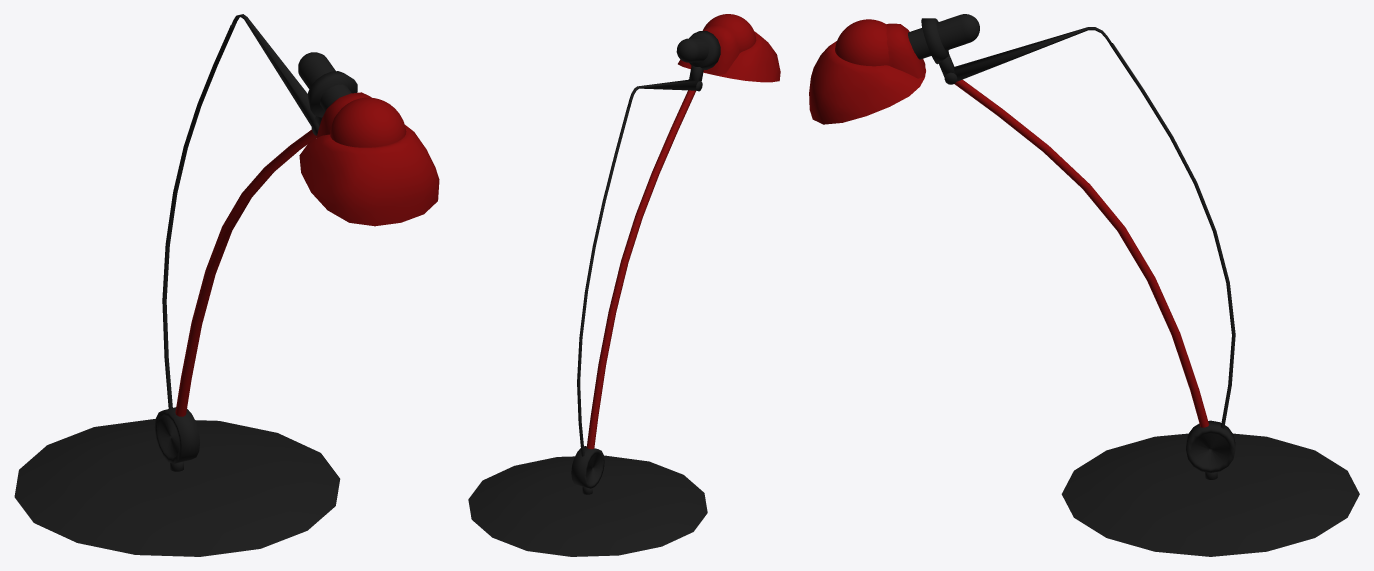
Rendered from desk_lamp2.obj.
3 renders of one model, left to right at view 1: azimuth 30°, elevation 25°; view 2: azimuth 150°, elevation 25°; view 3: azimuth 270°, elevation 25°, orthographic. The views are drawn at different scales.
Visible parts, largest first — view 1: jandrusOne_Plane.003_black, jandrusOne_Plane.003_metalillo, JandrusTwo_Sphere.001_black, JandrusTwo_Sphere.001_metalillo; view 2: jandrusOne_Plane.003_black, jandrusOne_Plane.003_metalillo, JandrusTwo_Sphere.001_black, JandrusTwo_Sphere.001_metalillo; view 3: jandrusOne_Plane.003_black, jandrusOne_Plane.003_metalillo, JandrusTwo_Sphere.001_black, JandrusTwo_Sphere.001_metalillo.
Part boxes in pixels (box(x1,y1,x2,y2)): jandrusOne_Plane.003_black: box(14, 25, 340, 556); jandrusOne_Plane.003_metalillo: box(175, 92, 439, 416); JandrusTwo_Sphere.001_black: box(154, 14, 357, 471); JandrusTwo_Sphere.001_metalillo: box(330, 97, 406, 147); jandrusOne_Plane.003_black: box(468, 107, 707, 556); jandrusOne_Plane.003_metalillo: box(586, 25, 780, 449); JandrusTwo_Sphere.001_black: box(571, 31, 720, 494); JandrusTwo_Sphere.001_metalillo: box(702, 14, 756, 52); jandrusOne_Plane.003_black: box(1061, 43, 1359, 556); jandrusOne_Plane.003_metalillo: box(809, 23, 1209, 427); JandrusTwo_Sphere.001_black: box(908, 14, 1235, 479); JandrusTwo_Sphere.001_metalillo: box(835, 19, 889, 66).
Size of the model in its own units: 2.28 by 4.06 by 4.24.
